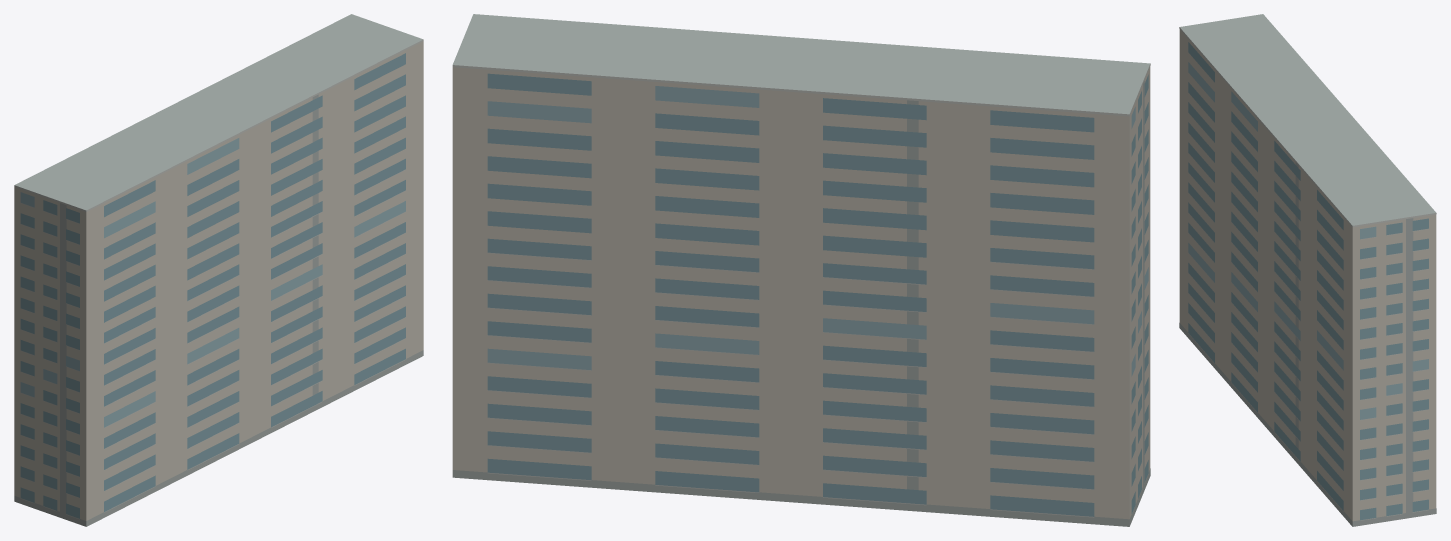
File: residential-b82e15fd-f60e-497c-8230-b34b136f5b6c.glb
3 views of the same model, side by side, from view 1: azimuth 30°, elevation 25°; view 2: azimuth 150°, elevation 25°; view 3: azimuth 270°, elevation 25° (orthographic). The views are drawn at different scales.
Parts seen in each view (by area): view 1: residential-b82e15fd-f60e-497c-8230-b34b136f5b6c.tmp; view 2: residential-b82e15fd-f60e-497c-8230-b34b136f5b6c.tmp; view 3: residential-b82e15fd-f60e-497c-8230-b34b136f5b6c.tmp.
Boxes of the visible parts, x1=… form: residential-b82e15fd-f60e-497c-8230-b34b136f5b6c.tmp: x1=14, y1=14, x2=423, y2=526; residential-b82e15fd-f60e-497c-8230-b34b136f5b6c.tmp: x1=452, y1=14, x2=1150, y2=526; residential-b82e15fd-f60e-497c-8230-b34b136f5b6c.tmp: x1=1179, y1=14, x2=1436, y2=526.
Size of the model in its own units: 69.05 by 45.75 by 35.4.
